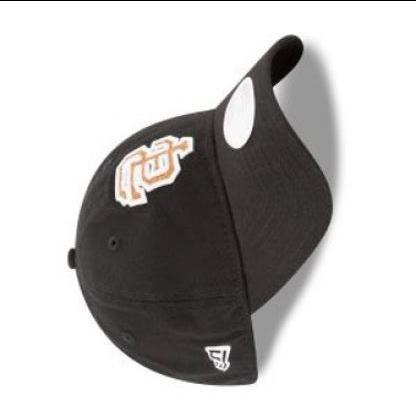cap: (60, 28, 338, 393)
